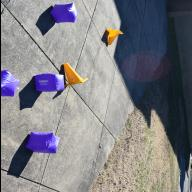cone: (62, 62, 87, 86), (104, 29, 122, 45)
cube: (25, 132, 60, 154), (0, 68, 20, 98), (49, 3, 77, 23), (34, 74, 64, 92)
